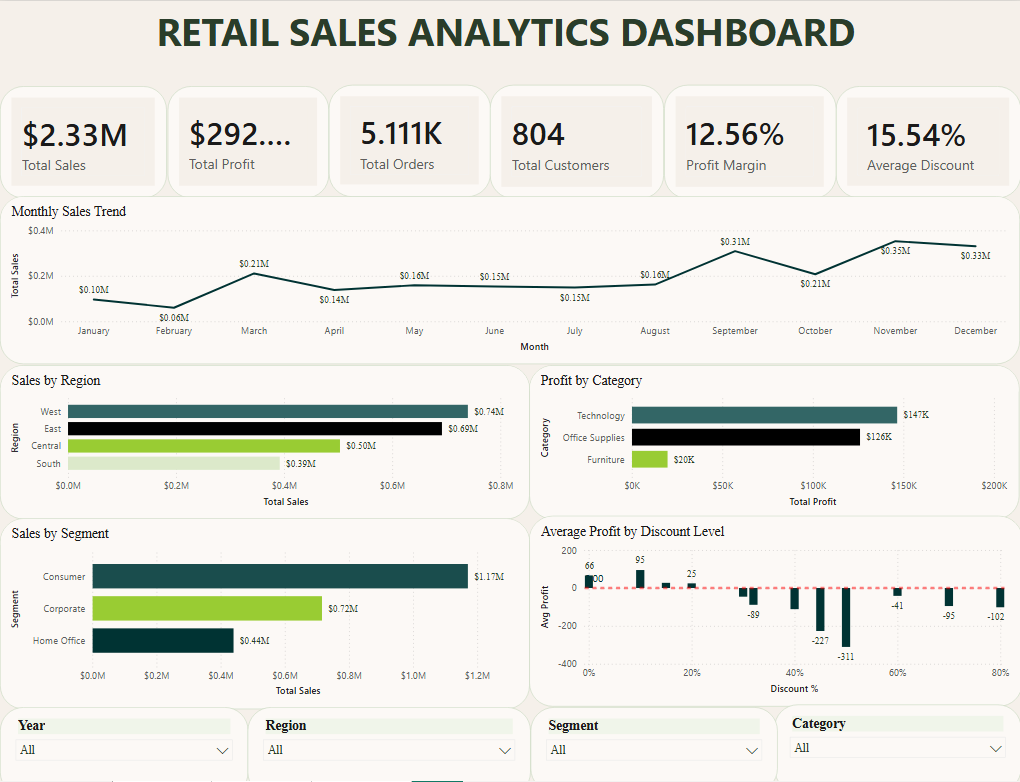

The dashboard page shown, as its layout file describes it:
{"tool":"powerbi","page":{"name":"Page 1","canvas":[1300,1000],"ordinal":0},"visuals":[{"type":"cardVisual","fields":{"Data":["Sheet1.Total Sales"]},"box":[0,108.8,212.5,142.5],"z":0},{"type":"cardVisual","fields":{"Data":["Sheet1.Total Profit"]},"box":[212.5,108.8,205,142.5],"z":1000},{"type":"cardVisual","fields":{"Data":["Sheet1.Total Orders"]},"box":[417.5,106.2,206.2,142.5],"z":2000},{"type":"cardVisual","fields":{"Data":["Sheet1.Total Customers"]},"box":[623.8,106.2,221.2,145],"z":3000},{"type":"cardVisual","fields":{"Data":["Sheet1.Average Discount"]},"box":[1063.8,108.8,236.2,142.5],"z":4000},{"type":"cardVisual","fields":{"Data":["Sheet1.Profit Margin"]},"box":[845,106.2,218.8,145],"z":5000},{"type":"lineChart","title":"Monthly Sales Trend","fields":{"Category":["Sheet1.order_date.Variation.Date Hierarchy.Month"],"Y":["Sheet1.Total Sales"]},"box":[0,248.8,1297.5,213.8],"z":6000},{"type":"clusteredBarChart","title":"Sales by Region","fields":{"Category":["Sheet1.region"],"Y":["Sheet1.Total Sales"]},"box":[0,463.8,673.7,196.2],"z":7000},{"type":"clusteredBarChart","title":"Profit by Category","fields":{"Category":["Sheet1.category"],"Y":["Sheet1.Total Profit"]},"box":[673.8,462.5,623.8,196.2],"z":8000},{"type":"textbox","box":[0,0,1300,106.2],"z":9000},{"type":"clusteredBarChart","title":"Sales by Segment","fields":{"Category":["Sheet1.segment"],"Y":["Sheet1.Total Sales"]},"box":[0,657.5,673.8,242.5],"z":10000},{"type":"clusteredColumnChart","title":"Average Profit by Discount Level","fields":{"Y":["Avg(Sheet1.profit)"],"Category":["Sheet1.discount"]},"box":[672.9,655.7,627.1,242.9],"z":11000},{"type":"slicer","title":"Year","fields":{"Values":["Sheet1.order_year"]},"box":[0,898.6,315.7,112.9],"z":12000},{"type":"slicer","title":"Region","fields":{"Values":["Sheet1.region"]},"box":[315,898.3,360,113.3],"z":13000},{"type":"slicer","title":"Category","fields":{"Values":["Sheet1.category"]},"box":[985.7,895.7,314.3,111.4],"z":14000},{"type":"slicer","title":"Segment","fields":{"Values":["Sheet1.segment"]},"box":[674.3,898.6,314.3,108.6],"z":15000}]}

Visuals, with their boxes in screenshot pixels (x1, y1, x2, y2), scaled from the page's 1300x1000 canvas onto the 1020x782 screenshot:
cardVisual - Sheet1.Total Sales: <region>0, 85, 167, 197</region>
cardVisual - Sheet1.Total Profit: <region>167, 85, 328, 197</region>
cardVisual - Sheet1.Total Orders: <region>328, 83, 489, 194</region>
cardVisual - Sheet1.Total Customers: <region>489, 83, 663, 196</region>
cardVisual - Sheet1.Average Discount: <region>835, 85, 1019, 197</region>
cardVisual - Sheet1.Profit Margin: <region>663, 83, 835, 196</region>
"Monthly Sales Trend" lineChart: <region>0, 195, 1018, 362</region>
"Sales by Region" clusteredBarChart: <region>0, 363, 529, 516</region>
"Profit by Category" clusteredBarChart: <region>529, 362, 1018, 515</region>
textbox: <region>0, 0, 1019, 83</region>
"Sales by Segment" clusteredBarChart: <region>0, 514, 529, 704</region>
"Average Profit by Discount Level" clusteredColumnChart: <region>528, 513, 1019, 703</region>
"Year" slicer: <region>0, 703, 248, 781</region>
"Region" slicer: <region>247, 702, 530, 781</region>
"Category" slicer: <region>773, 700, 1019, 781</region>
"Segment" slicer: <region>529, 703, 776, 781</region>
